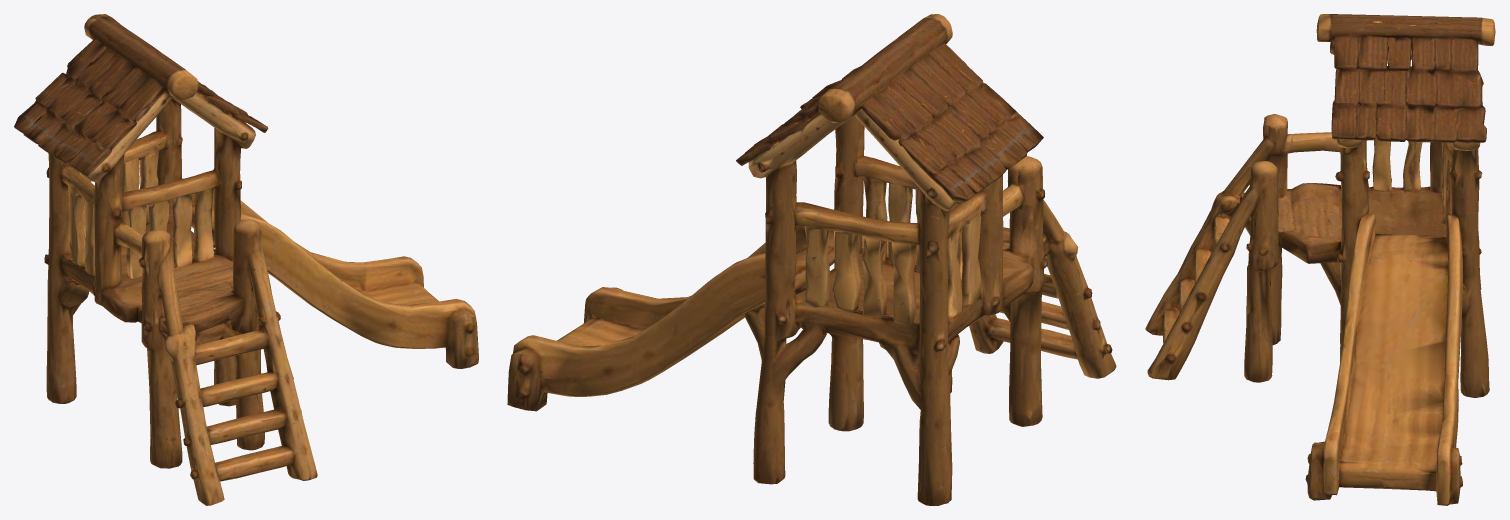
The model's file is kaydirak.glb.
The picture shows the model from 3 angles, left to right: view 1: azimuth 30°, elevation 25°; view 2: azimuth 150°, elevation 25°; view 3: azimuth 270°, elevation 25°; orthographic projection. The views are drawn at different scales.
Bounding box in the file's own units: 1.9 × 1.63 × 1.48.
1 material, 1 textured.
